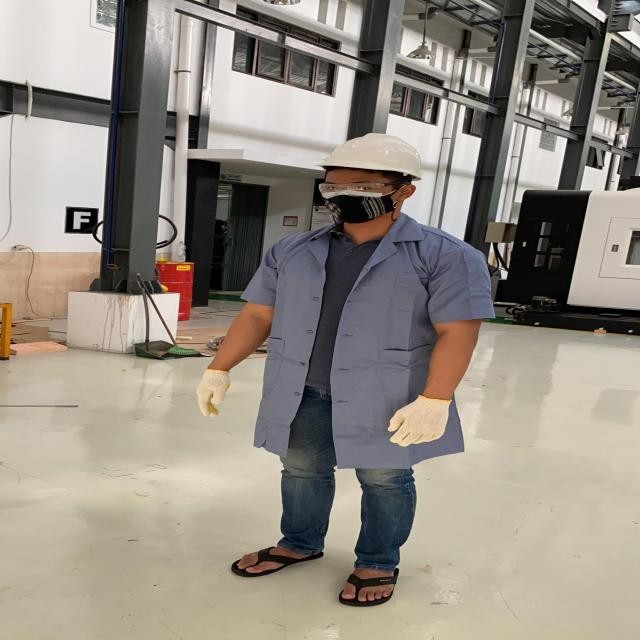face_mask: (310, 175, 396, 225)
glasses: (311, 178, 409, 201)
hand_glove: (373, 393, 457, 449), (185, 366, 232, 420)
head_helmet: (312, 130, 423, 175)
person: (196, 129, 490, 606)
